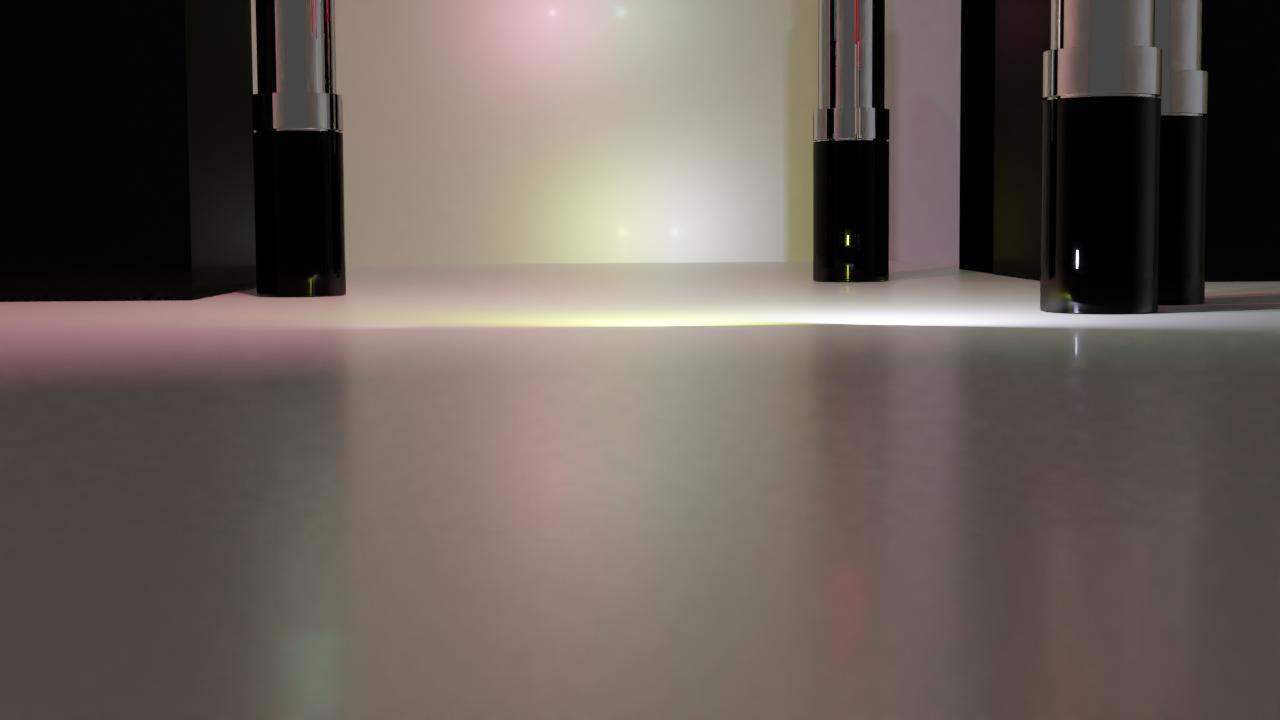CLASSIFIER_NAME: (1037, 0, 1165, 314), (250, 0, 348, 297), (812, 0, 891, 282)
